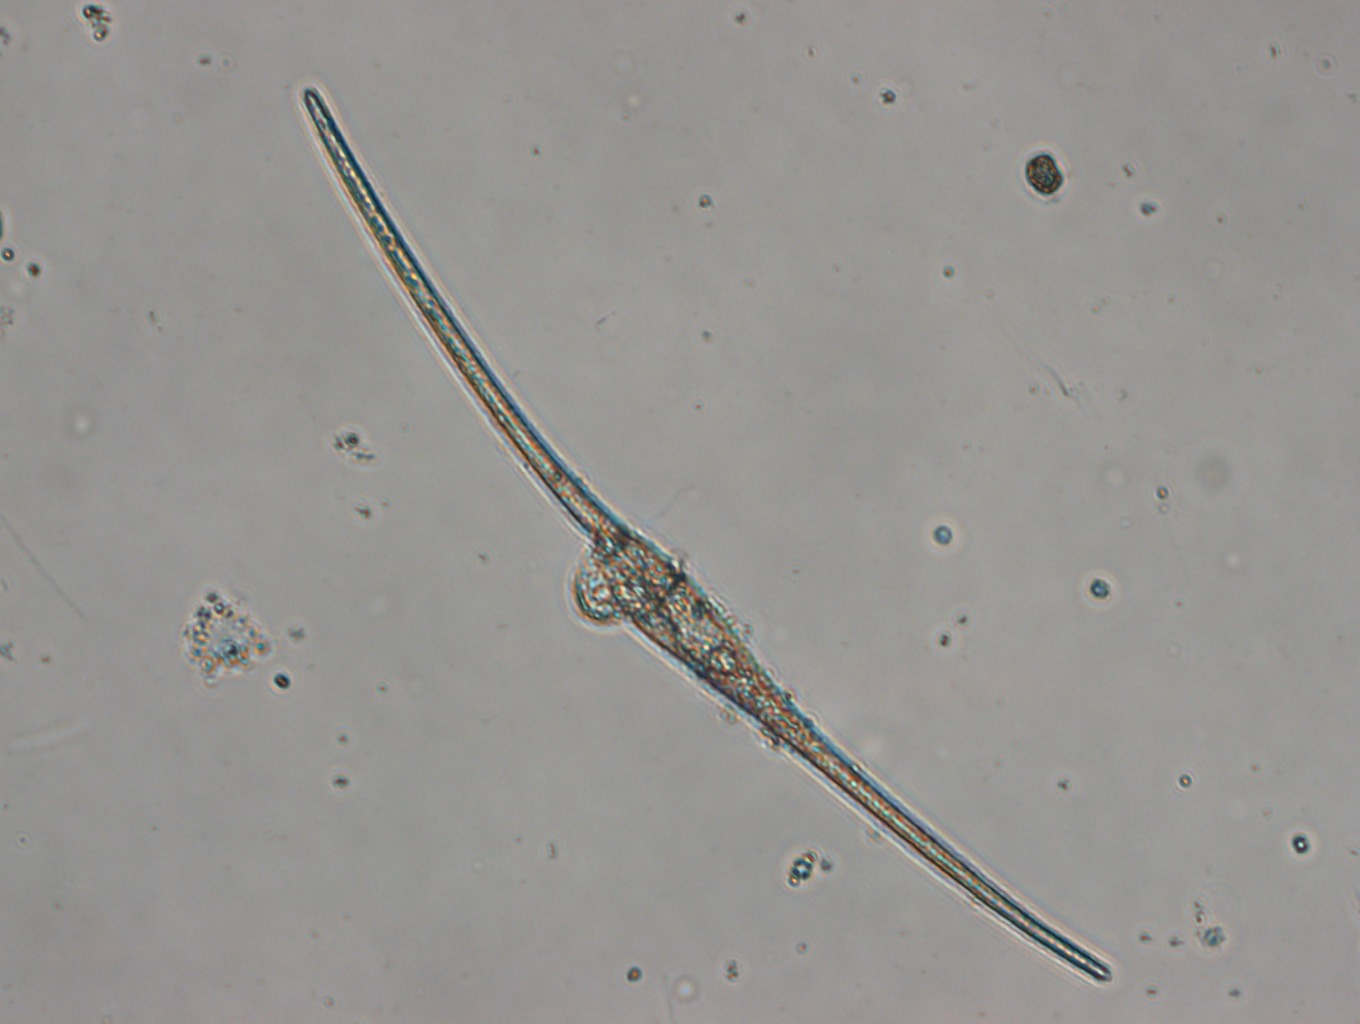ceratium fusus: (304, 87, 1111, 982)
